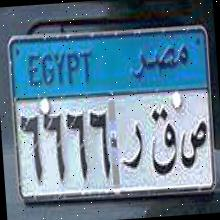6: (66, 109, 88, 181), (90, 109, 113, 177), (20, 113, 43, 181), (44, 110, 66, 178)
qaaf: (148, 107, 178, 173)
raa: (120, 124, 146, 175)
saad: (178, 118, 210, 167)
